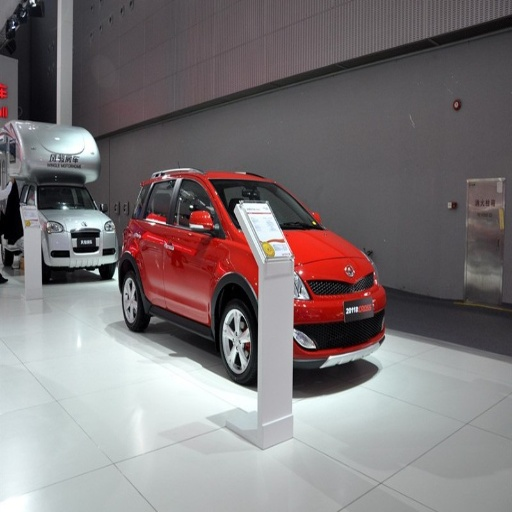front_bumper: (287, 259, 385, 367)
